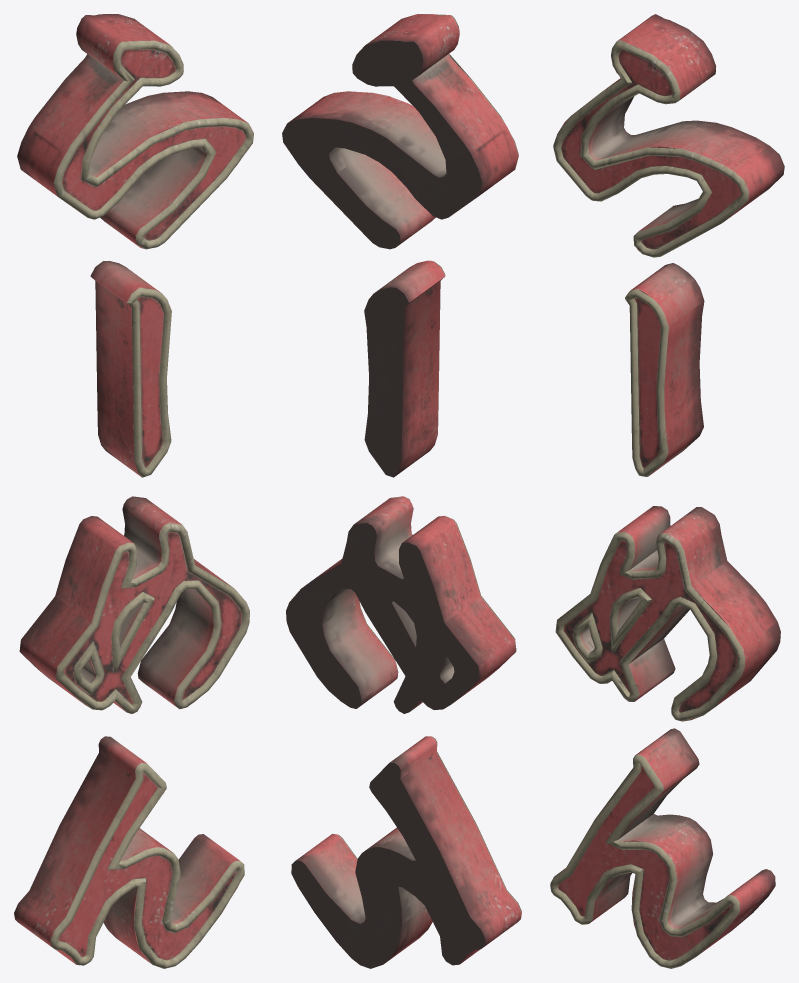
The model's file is sign_text_ramen.fbx.
The picture shows the model from 3 angles, left to right: view 1: azimuth 30°, elevation 25°; view 2: azimuth 150°, elevation 25°; view 3: azimuth 330°, elevation 25°; orthographic projection. The views are drawn at different scales.
Visible parts, largest first — view 1: sign_text_ramen; view 2: sign_text_ramen; view 3: sign_text_ramen.
Part boxes in pixels (x1,y1,x2,y2): sign_text_ramen: (14,14,253,968); sign_text_ramen: (282,14,521,968); sign_text_ramen: (550,14,784,968).
Bounding box in the file's own units: 70.99 × 313 × 23.19.
1 material, 1 textured.
